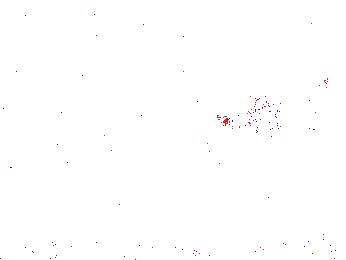flame jellyfish: (216, 93, 287, 142), (148, 166, 209, 220), (284, 62, 326, 134)
